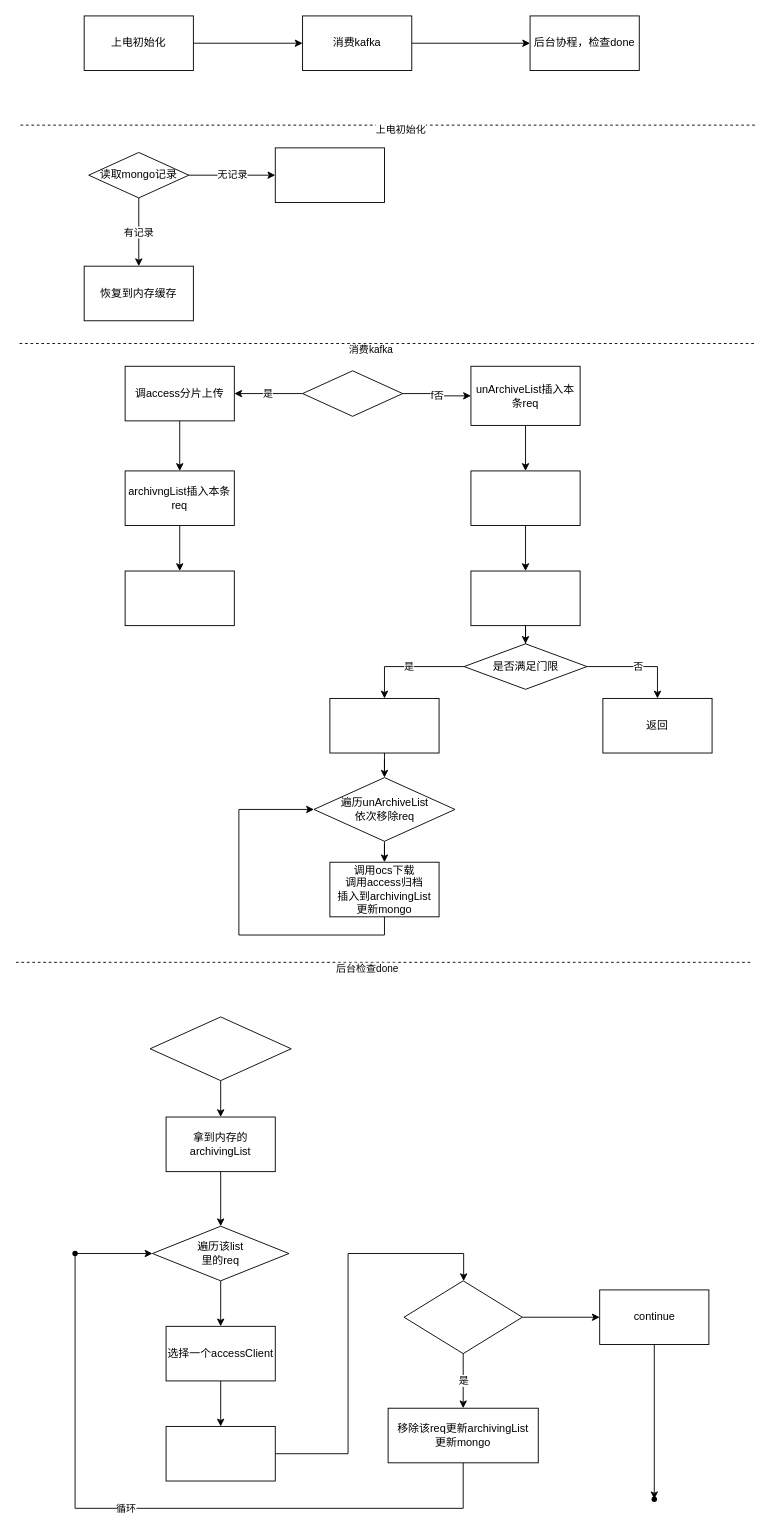
This 774x1533 diagram has some shape labels left out. Each missing label, with the centre of its shape:
cient去Head: point 220,1453
mongo中更新archivngList: point 179,598
mongo更新: point 525,498
定时器每xx秒: point 220,1048
插入空记录archivngList unArchiveList: point 329,174
是否done: point 462,1317
是否分片对象: point 352,393
更新buffSize大小: point 525,598
选一个accessClient: point 384,725
